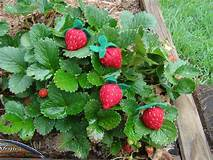Fresa: (97, 81, 125, 110), (138, 104, 167, 132), (63, 25, 90, 53), (98, 44, 125, 71)
